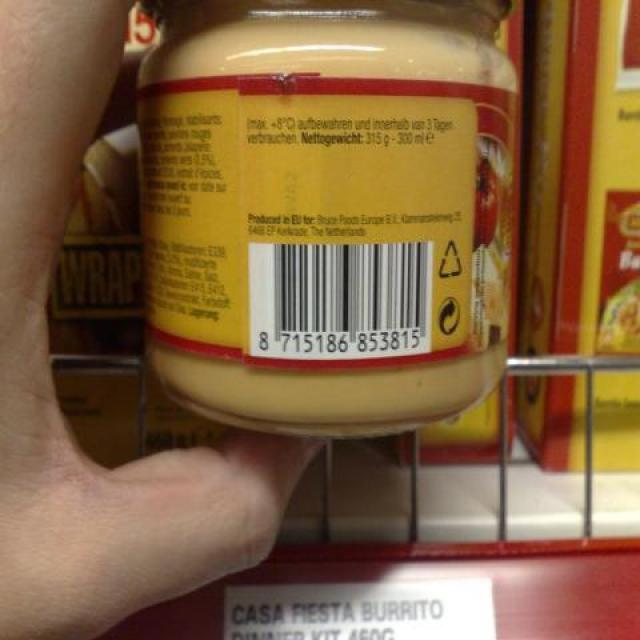Barcode: (247, 242, 433, 358)
